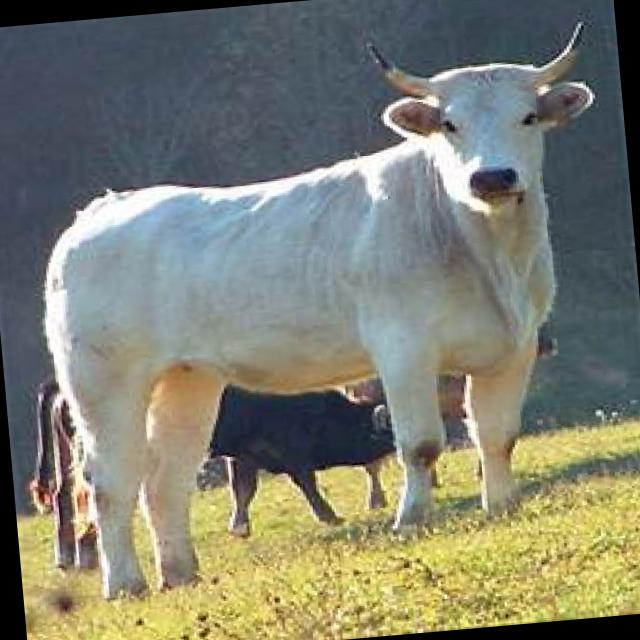animal: (18, 18, 639, 601)
